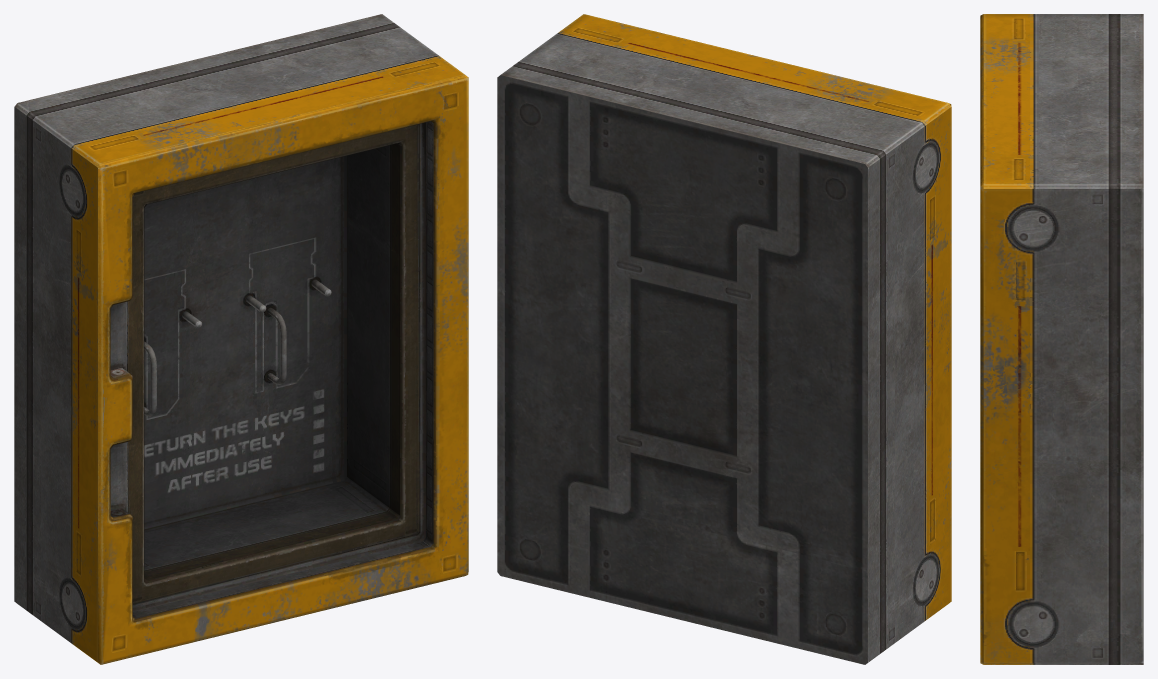
File: cabinet_reactor_keys.dae
3 views of the same model, side by side, from view 1: azimuth 30°, elevation 25°; view 2: azimuth 150°, elevation 25°; view 3: azimuth 270°, elevation 25° (orthographic). The views are drawn at different scales.
Parts seen in each view (by area): view 1: polySurface27; view 2: polySurface27; view 3: polySurface27.
Boxes of the visible parts, bbox=[...] form: polySurface27: bbox=[14, 14, 468, 664]; polySurface27: bbox=[497, 14, 951, 664]; polySurface27: bbox=[980, 14, 1143, 664].
Bounding box in the file's own units: 0.7743 × 1 × 0.308.
